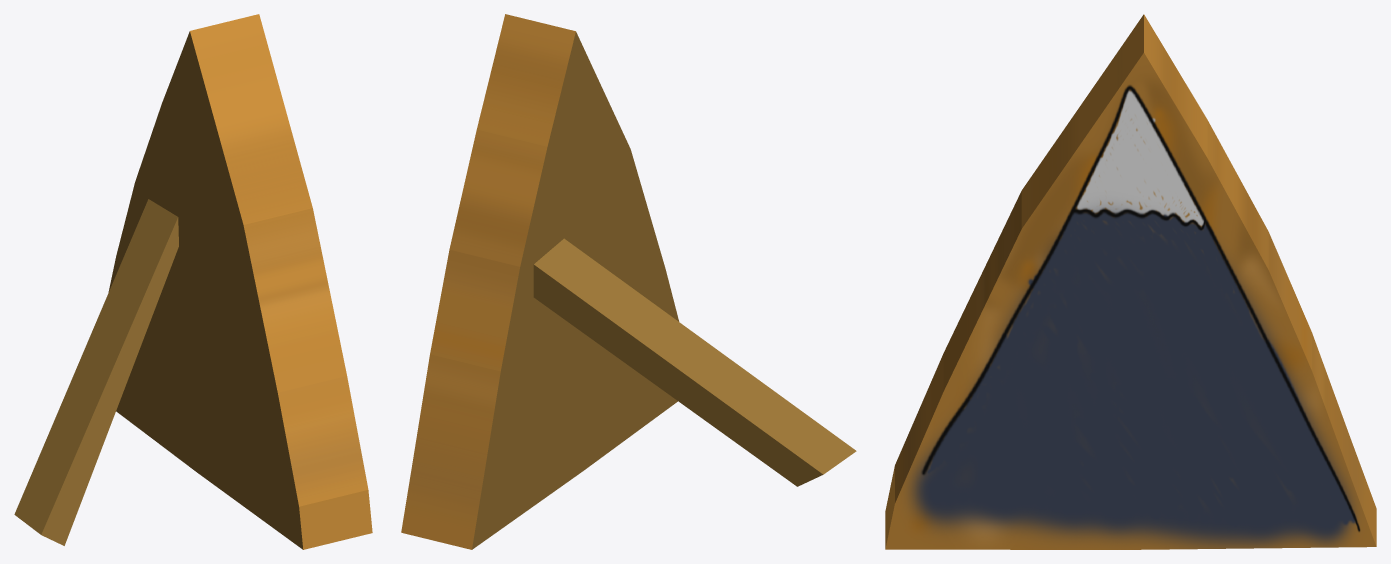
The model's file is Mountain3.fbx.
3 renders of one model, left to right at view 1: azimuth 30°, elevation 25°; view 2: azimuth 150°, elevation 25°; view 3: azimuth 270°, elevation 25°, orthographic. The views are drawn at different scales.
Parts seen in each view (by area): view 1: Plane.002; view 2: Plane.002; view 3: Plane.002.
Part boxes in pixels (box(x1,y1,x2,y2)): Plane.002: box(14, 14, 372, 549); Plane.002: box(401, 14, 856, 549); Plane.002: box(885, 14, 1376, 549).
Bounding box in the file's own units: 115 × 170 × 153.
Materials: 2 (1 with a texture image).
